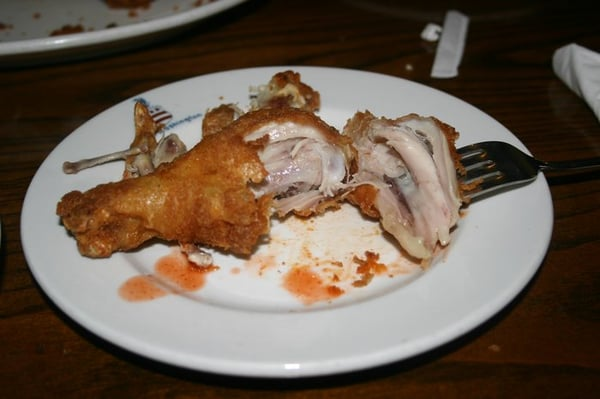curry: (4, 1, 600, 393)
